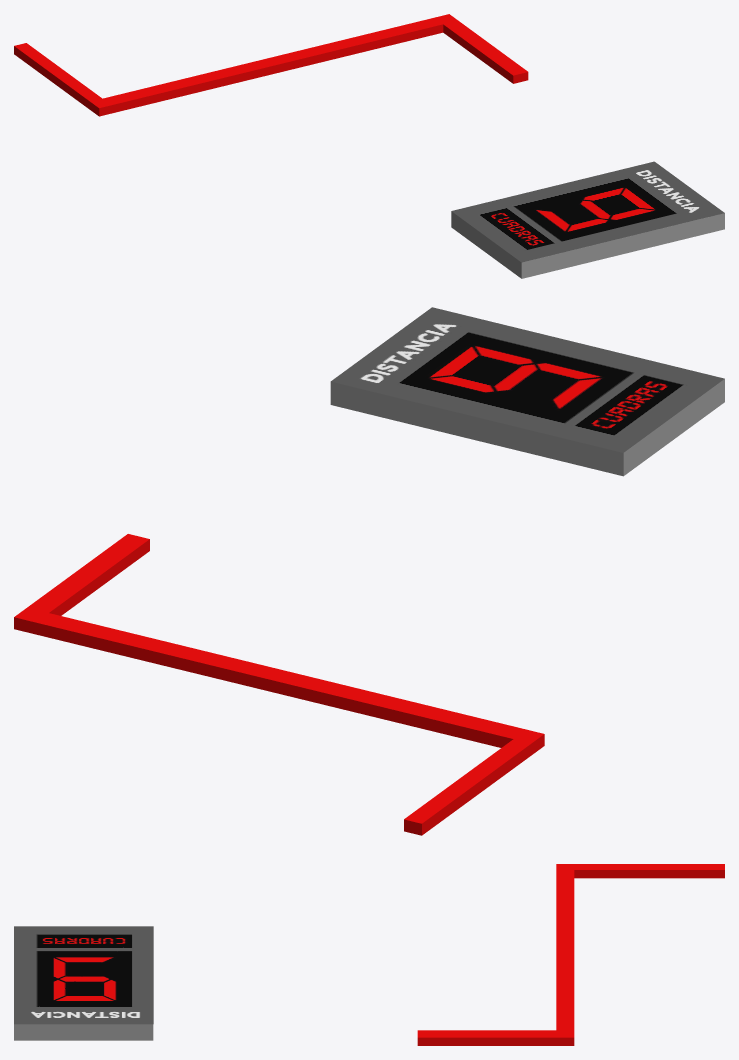
Rendered from 9_cuadras.fbx.
3 views of the same model, one above another, from view 1: azimuth 30°, elevation 25°; view 2: azimuth 150°, elevation 25°; view 3: azimuth 270°, elevation 25° (orthographic). The views are drawn at different scales.
Visible parts, largest first — view 1: polySurface56; view 2: polySurface56; view 3: polySurface56.
Boxes of the visible parts, bbox=[...] form: polySurface56: bbox=[14, 14, 724, 278]; polySurface56: bbox=[14, 307, 724, 835]; polySurface56: bbox=[14, 864, 724, 1045].
Size of the model in its own units: 44.19 by 2.13 by 76.5.
3 materials, 2 textured.
